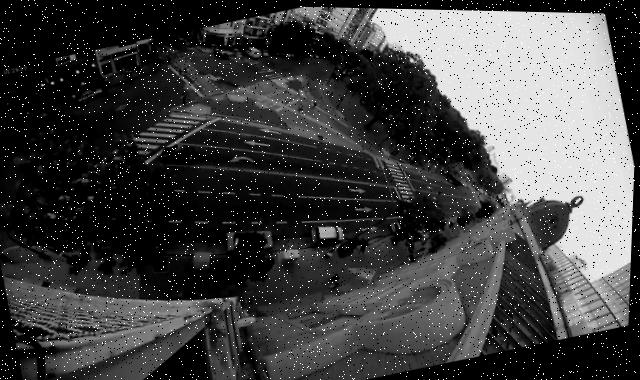bus: (446, 169, 462, 185)
car: (224, 222, 276, 255), (157, 138, 197, 167), (310, 219, 345, 245), (76, 86, 103, 103), (32, 106, 54, 123), (0, 113, 19, 130), (244, 44, 260, 59), (212, 48, 229, 60), (390, 218, 402, 229), (173, 32, 183, 40), (261, 47, 268, 55), (311, 51, 318, 57), (272, 49, 279, 54), (334, 64, 341, 69), (285, 50, 290, 56), (478, 185, 483, 191), (460, 178, 466, 183), (257, 49, 261, 56), (279, 49, 284, 54), (466, 181, 471, 186), (289, 51, 294, 55), (462, 180, 467, 184), (308, 51, 312, 55)
